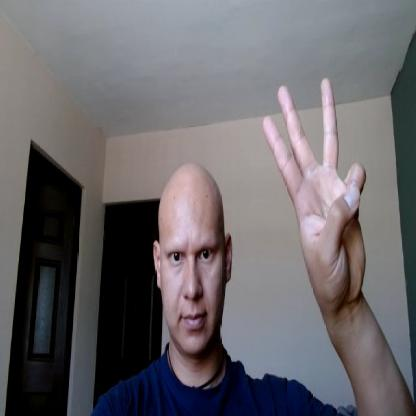W: (261, 76, 367, 301)
